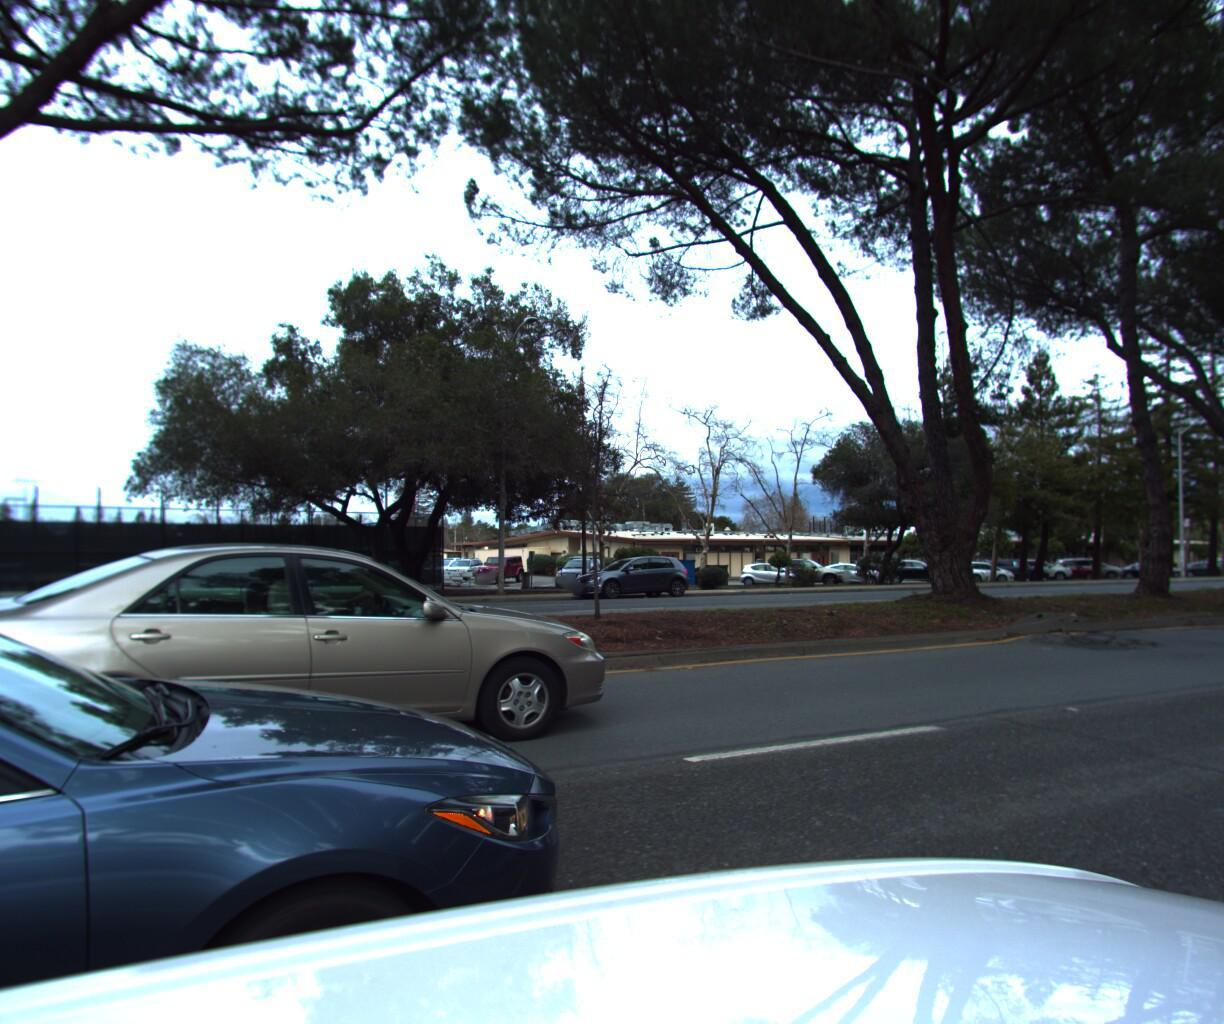car: (0, 561, 658, 1024), (0, 510, 627, 819), (562, 551, 701, 602)
